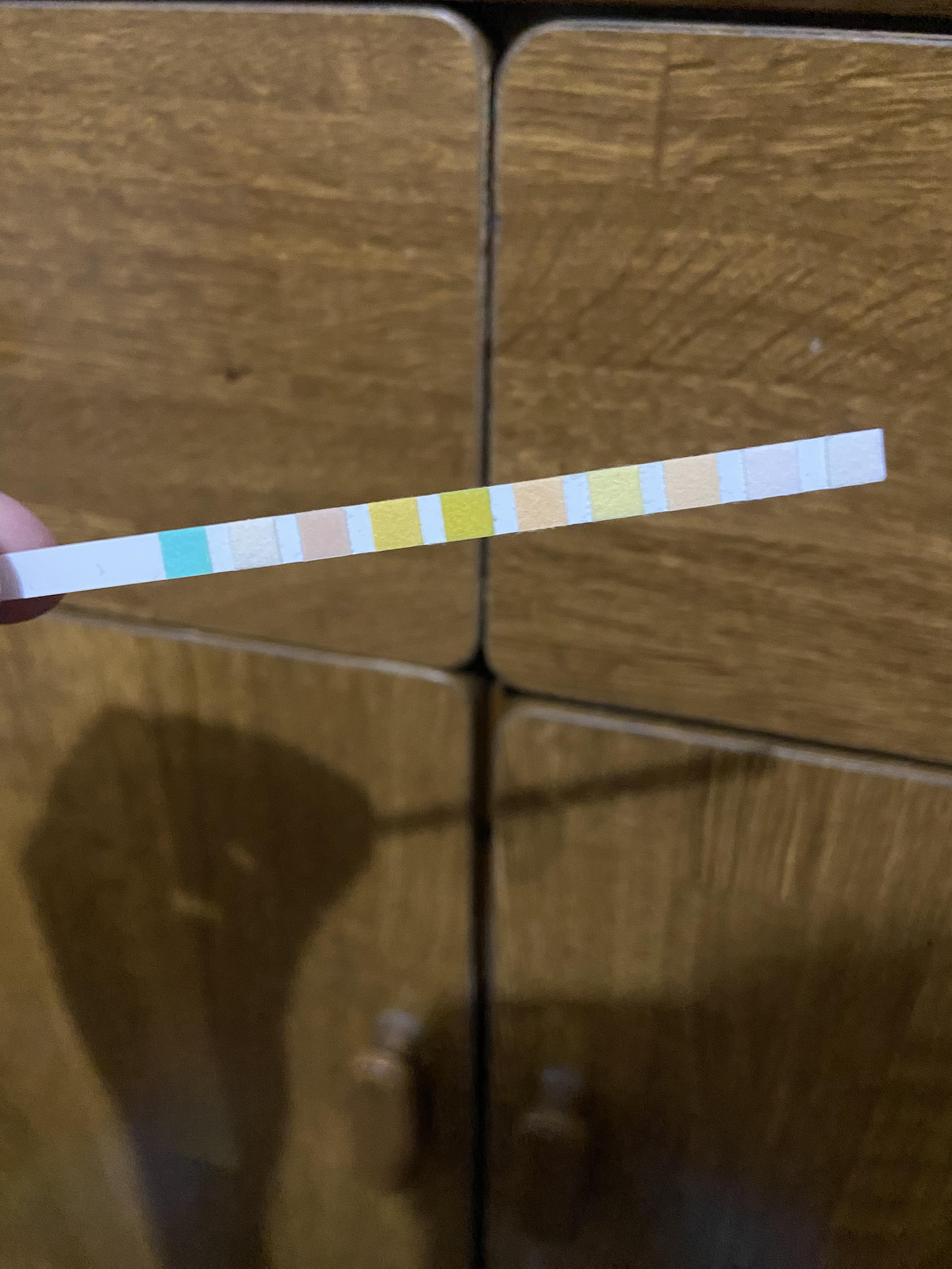Bilirubin: (236, 522, 275, 565)
Blood: (449, 492, 489, 536)
Glucose: (166, 532, 205, 574)
Ketone: (305, 513, 345, 556)
Leukocytes: (831, 436, 882, 481)
Nitrite: (748, 448, 796, 493)
Protein: (593, 471, 638, 516)
SpGravity: (373, 503, 417, 541)
Urobilinogen: (669, 461, 717, 504)
pH: (519, 482, 562, 527)
strip: (24, 429, 887, 598)
